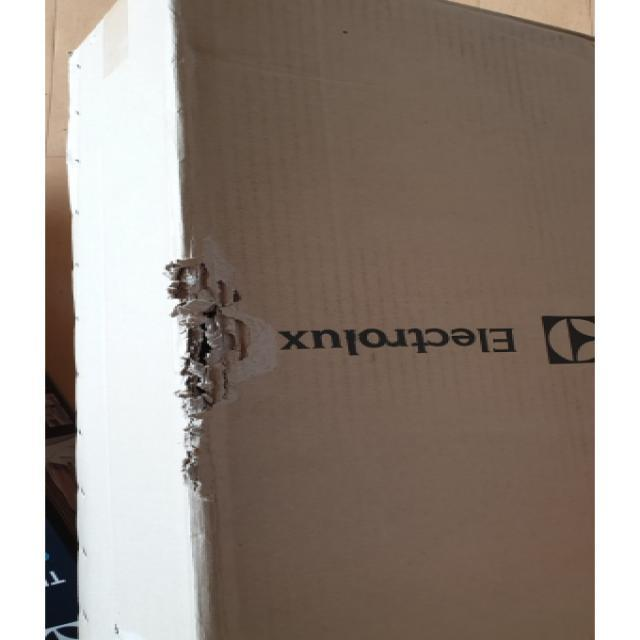damaged: (169, 259, 243, 406)
